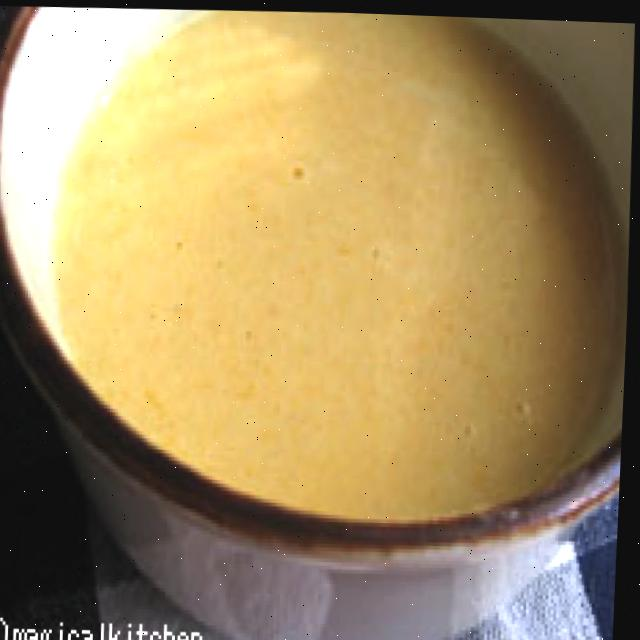汤锅炖物: (0, 0, 640, 609)
